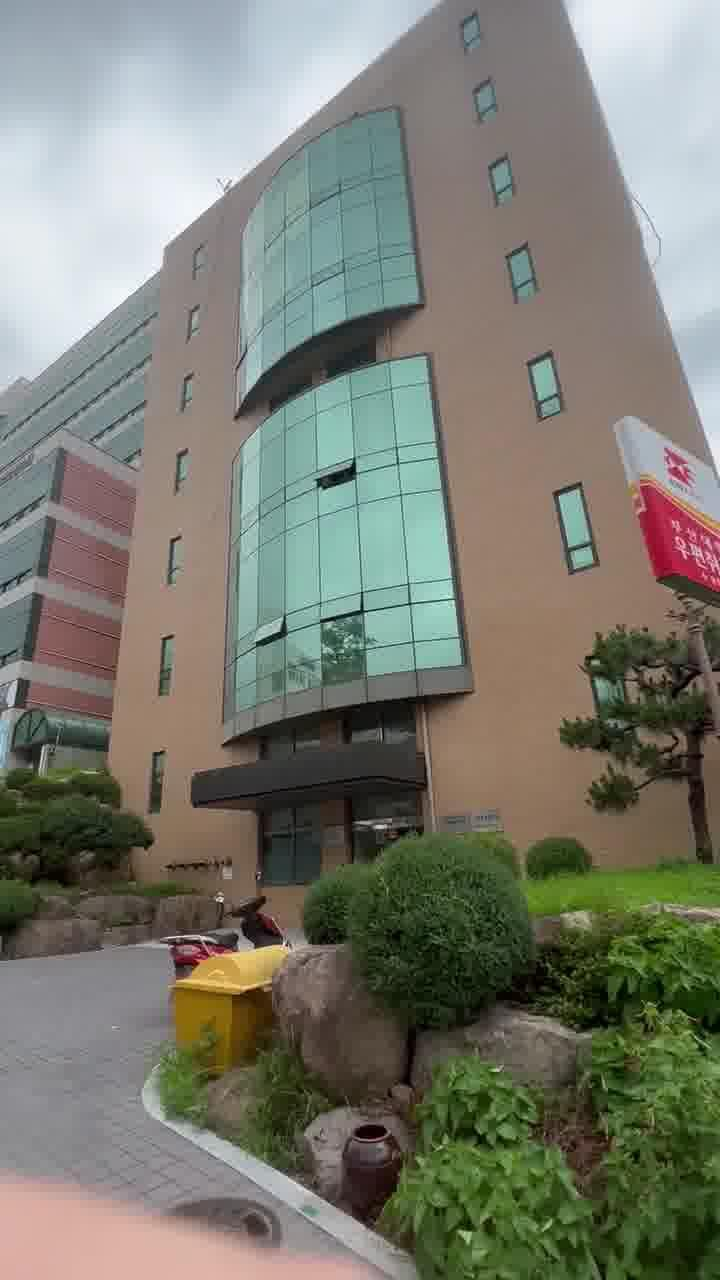building: (176, 110, 560, 824)
